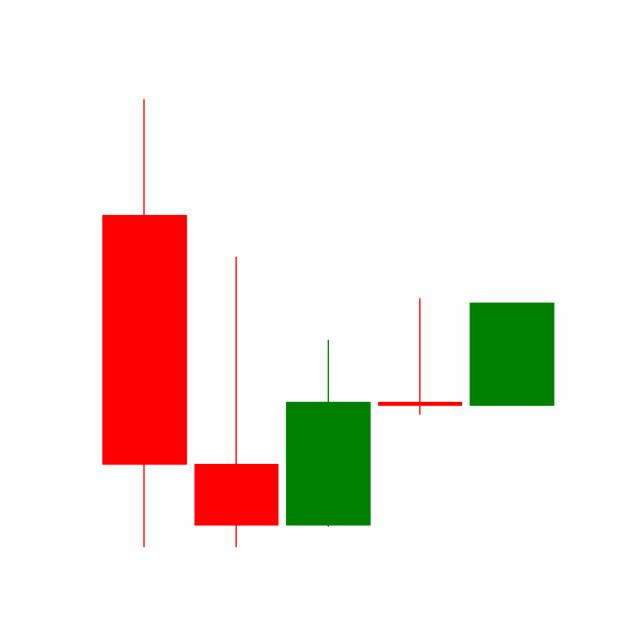Spinning Top: (373, 296, 467, 415)
